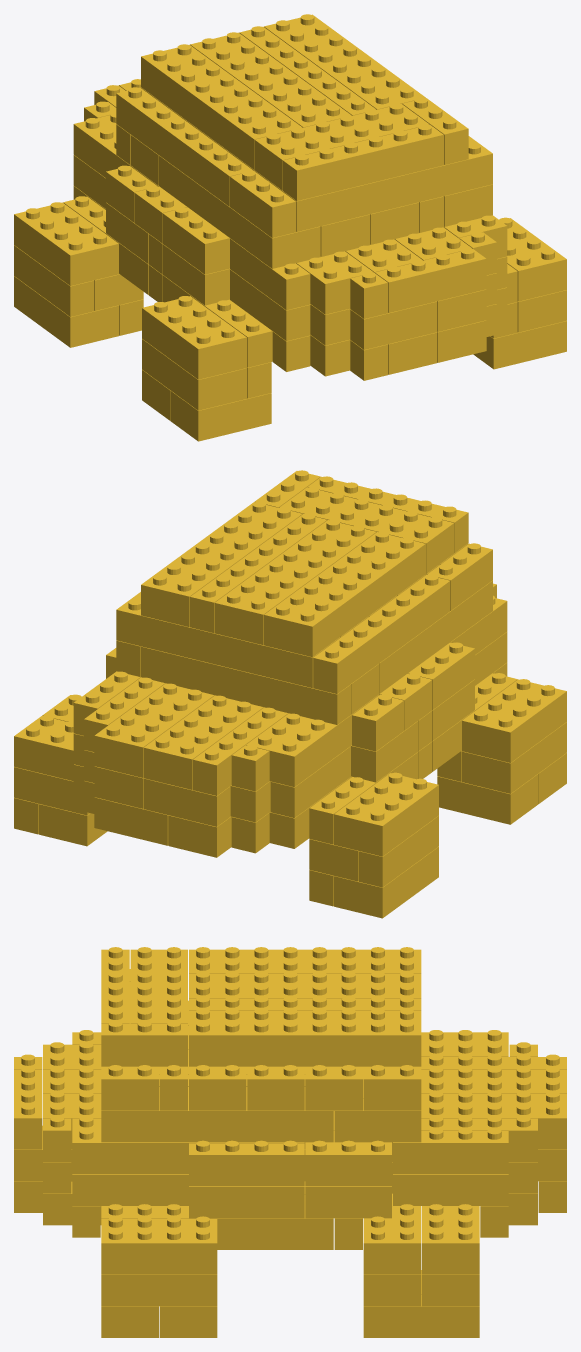
3 views of the same model, one above another, from view 1: azimuth 30°, elevation 25°; view 2: azimuth 150°, elevation 25°; view 3: azimuth 270°, elevation 25° (orthographic). The views are drawn at different scales.
Visible parts, largest first — view 1: car_L5_P1_S104; view 2: car_L5_P1_S104; view 3: car_L5_P1_S104.
Part boxes in pixels (x1,y1,x2,y2): car_L5_P1_S104: [14, 14, 566, 441]; car_L5_P1_S104: [14, 470, 566, 918]; car_L5_P1_S104: [14, 947, 566, 1337].
Bounding box in the file's own units: 14.97 × 9.79 × 18.97.
